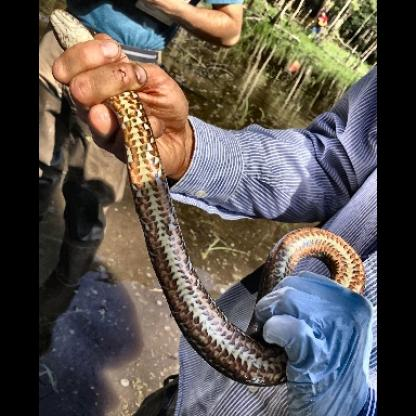Snake: (119, 124, 253, 375)
